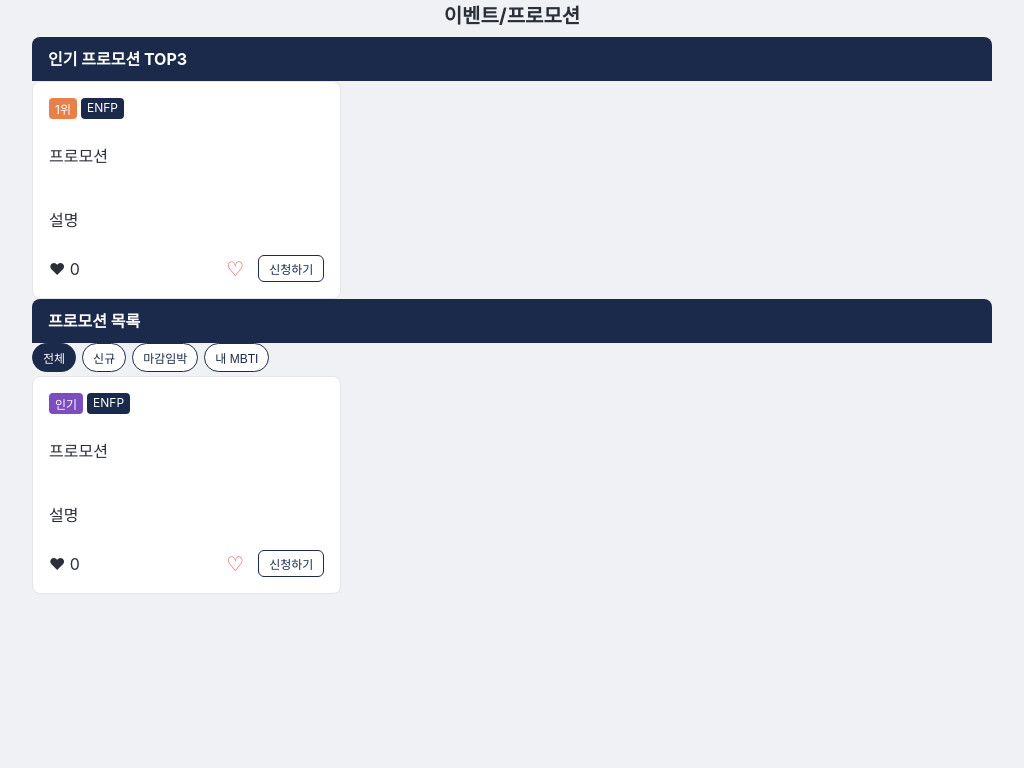
Test: PromotionListPage › 필터 결과가 0건이면 안내 문구를 표시한다
The image size is (1024, 768).
Click the button "신규": coordinates (104, 358) x1=82 y1=343 x2=126 y2=372
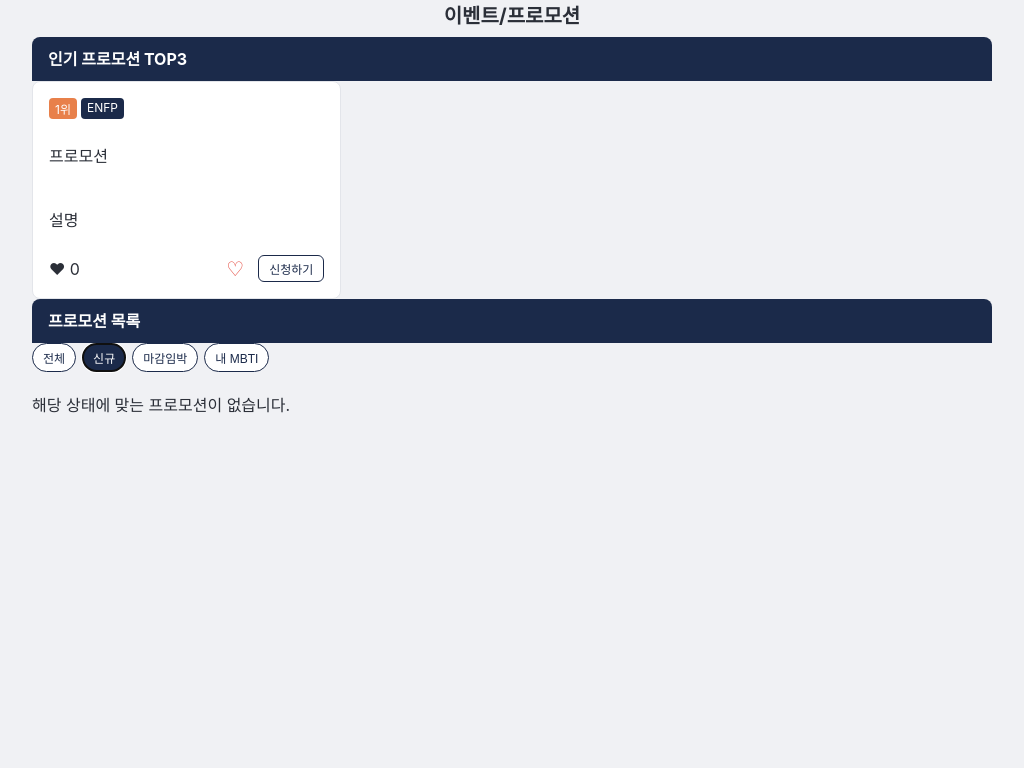
Check: the text "해당 상태에 맞는 프로모션이 없습니다." is shown, box x1=32 y1=395 x2=290 y2=415
